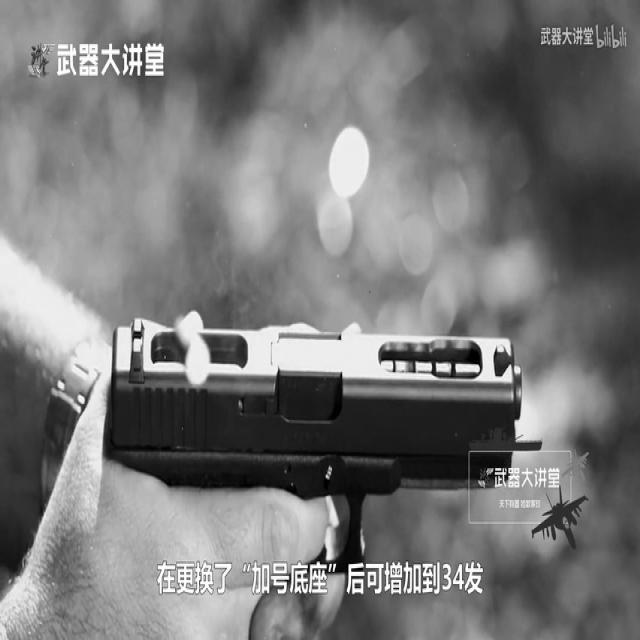Hand-Gun: (82, 200, 590, 640)
